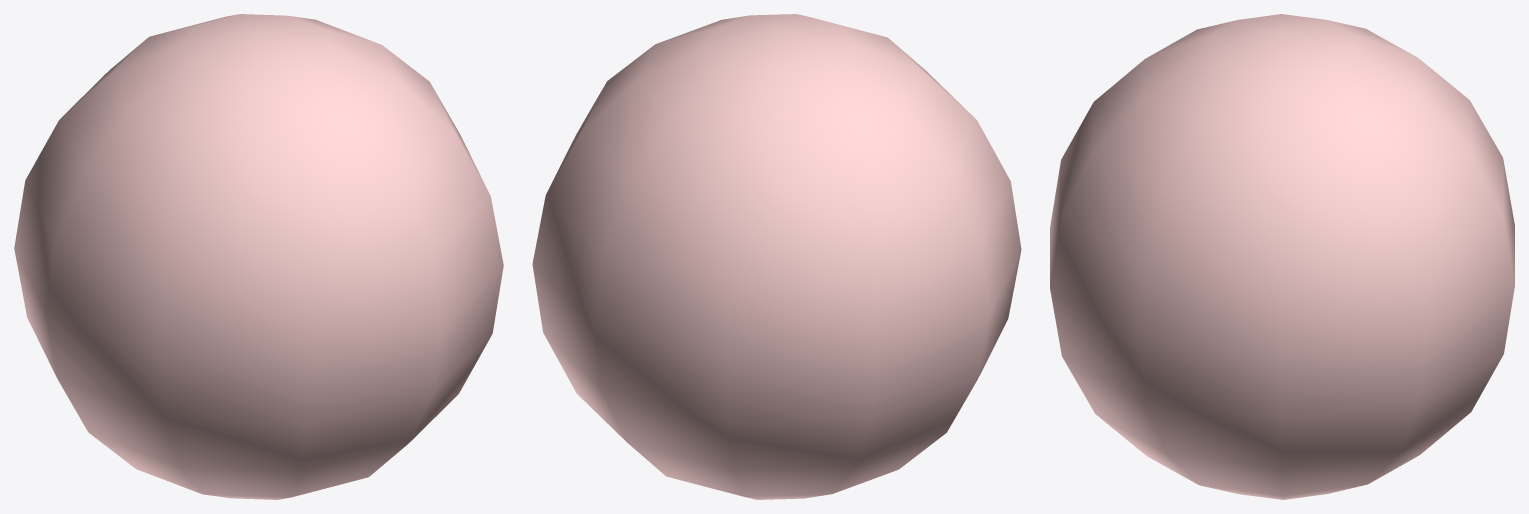
The model's file is cotton.fbx.
3 renders of one model, left to right at view 1: azimuth 30°, elevation 25°; view 2: azimuth 150°, elevation 25°; view 3: azimuth 270°, elevation 25°, orthographic.
Parts seen in each view (by area): view 1: Object_3; view 2: Object_3; view 3: Object_3.
Part boxes in pixels (x1=…): Object_3: x1=14, y1=14, x2=503, y2=499; Object_3: x1=532, y1=14, x2=1021, y2=499; Object_3: x1=1050, y1=14, x2=1514, y2=499.
Bounding box in the file's own units: 7263 × 7263 × 6908.
